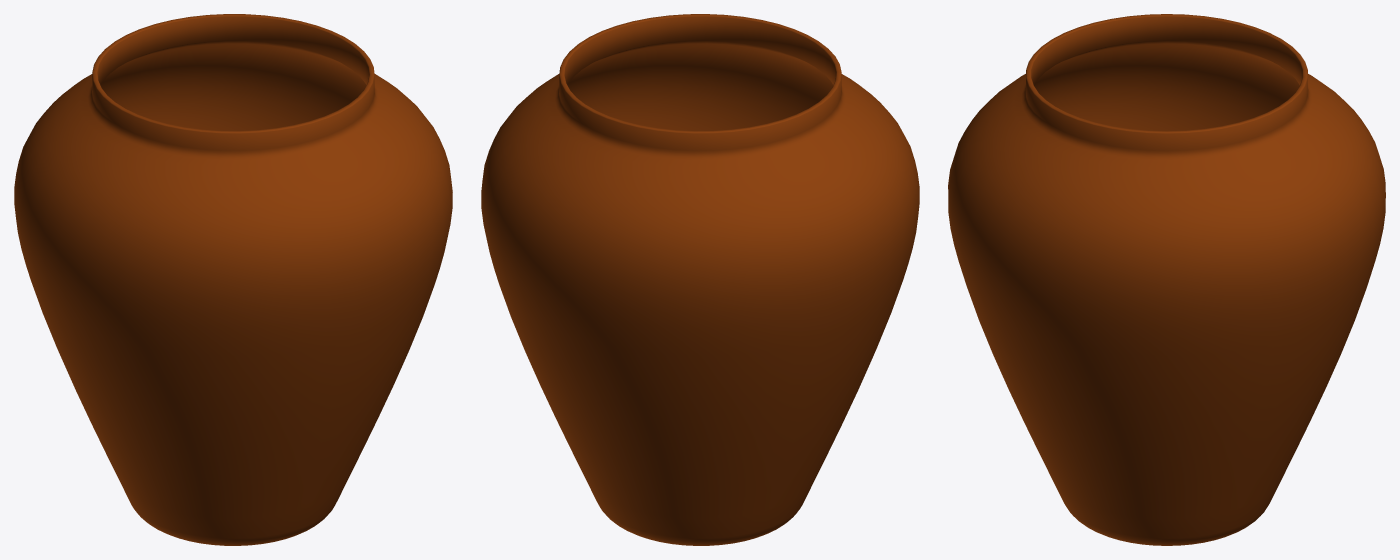
The model's file is vasooriental_vasooriental.obj.
3 views of the same model, side by side, from view 1: azimuth 30°, elevation 25°; view 2: azimuth 150°, elevation 25°; view 3: azimuth 270°, elevation 25° (orthographic).
Visible parts, largest first — view 1: Vase; view 2: Vase; view 3: Vase.
Part boxes in pixels (box(x1,y1,x2,y2)): Vase: box(14, 14, 452, 545); Vase: box(481, 14, 919, 545); Vase: box(948, 14, 1385, 545).
Size of the model in its own units: 81.76 by 89.98 by 81.58.
